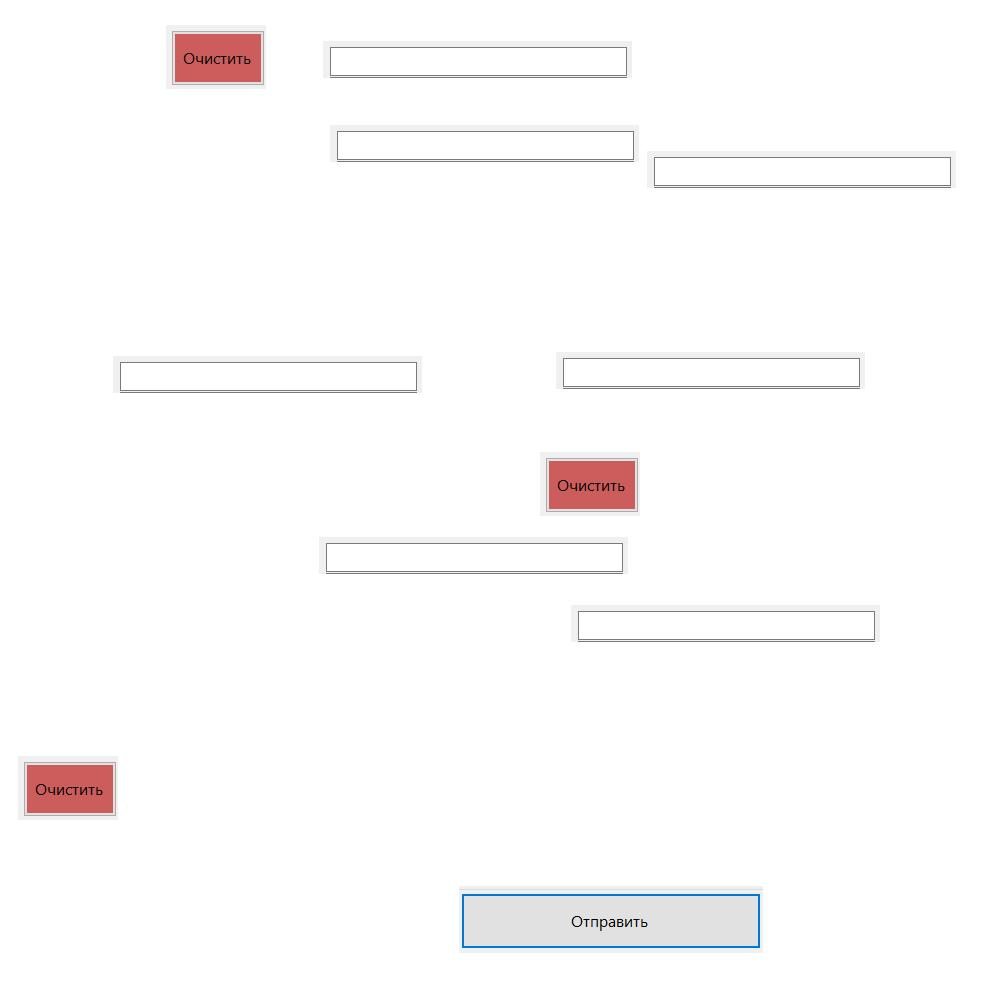Button: (459, 886, 763, 953), (166, 25, 266, 89), (18, 756, 118, 820), (540, 452, 640, 516)
EditText-: (647, 151, 956, 188), (323, 41, 632, 78), (330, 125, 639, 162), (571, 605, 880, 642), (319, 537, 628, 574), (556, 352, 865, 389), (113, 356, 422, 393)
